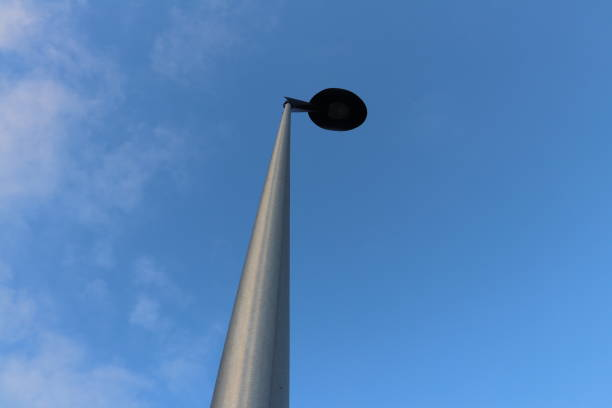light_pole: (216, 105, 294, 408)
